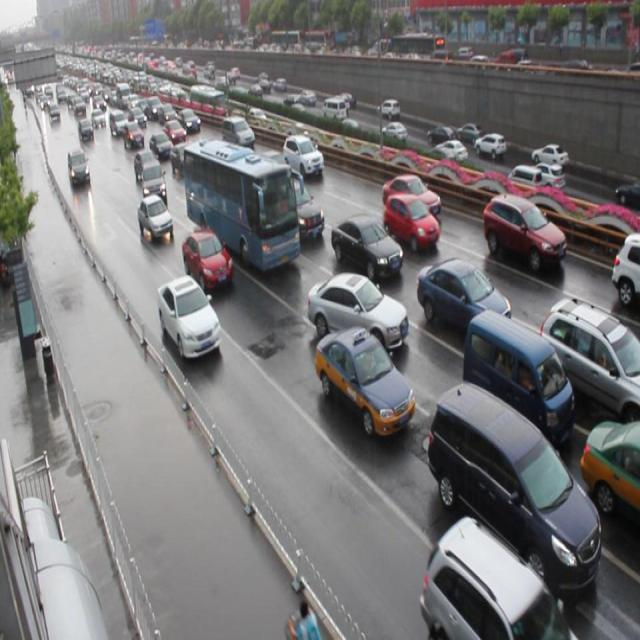car: (419, 512, 578, 640), (537, 296, 640, 427), (316, 324, 414, 436), (306, 268, 409, 354), (416, 256, 510, 334), (480, 190, 565, 272), (577, 418, 640, 528), (156, 273, 222, 359), (330, 213, 403, 280), (272, 176, 326, 245), (181, 225, 234, 293), (382, 190, 438, 253), (380, 169, 441, 223), (611, 230, 640, 306), (280, 132, 324, 179), (136, 192, 175, 239), (140, 158, 168, 203)
truck: (427, 382, 600, 595), (462, 308, 571, 439), (219, 114, 256, 149)
van: (182, 139, 299, 272)
